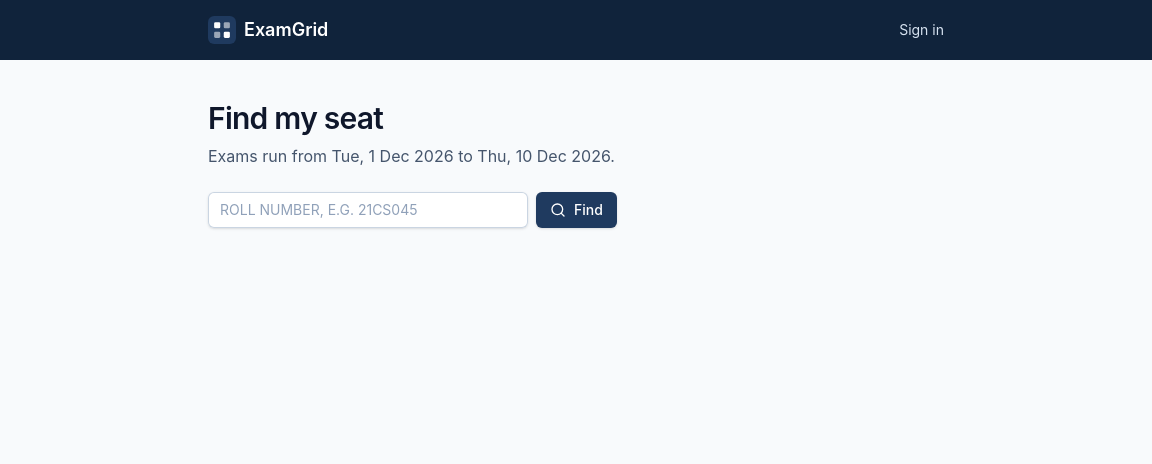
SeatFinderPage › looks up a roll number and lists rooms and seats
This screenshot has width=1152, height=464.
Expected: the text "Exams run from Tue, 1 Dec 2026 to Thu, 10 Dec 2026." is shown, [208, 146, 615, 166]
Step 1. Type " 24cs001 " into the field labelled "Roll number" → (368, 210), box [208, 192, 528, 228]
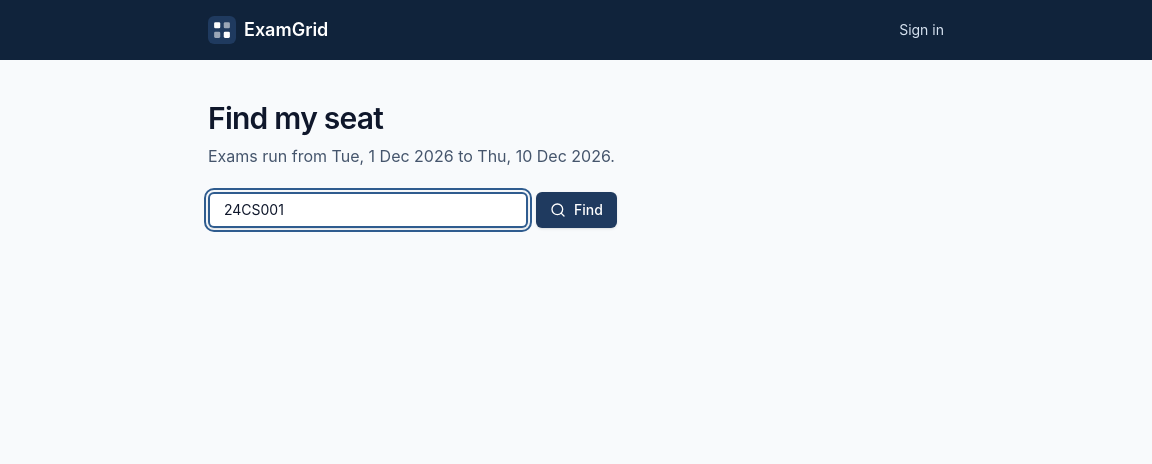
Step 2. Click the button "Find" → (576, 210), box [536, 192, 617, 228]
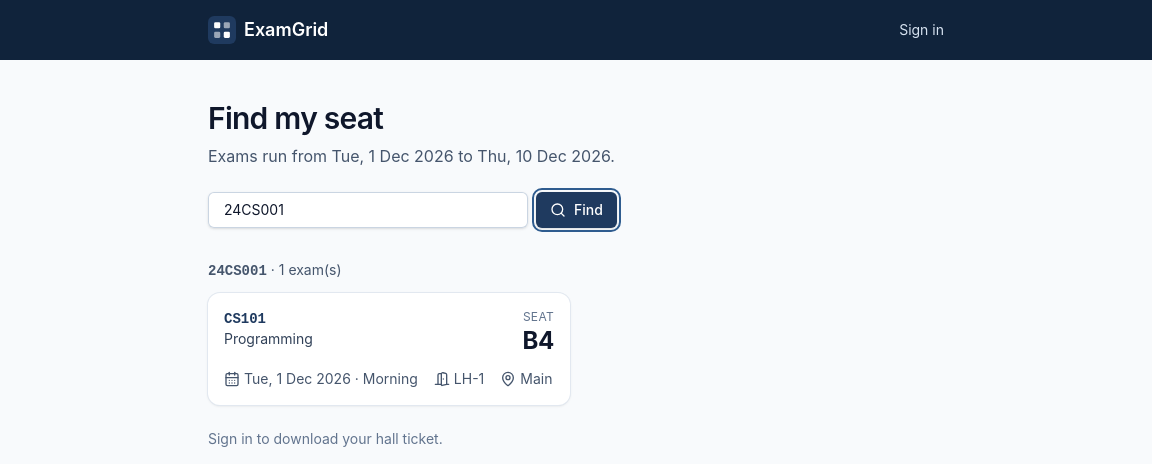
Now the text "CS101" is shown, box [224, 311, 266, 327]
Now the text "LH-1" is shown, box [434, 369, 484, 389]
Now the text "B4" is shown, box [523, 325, 554, 357]
